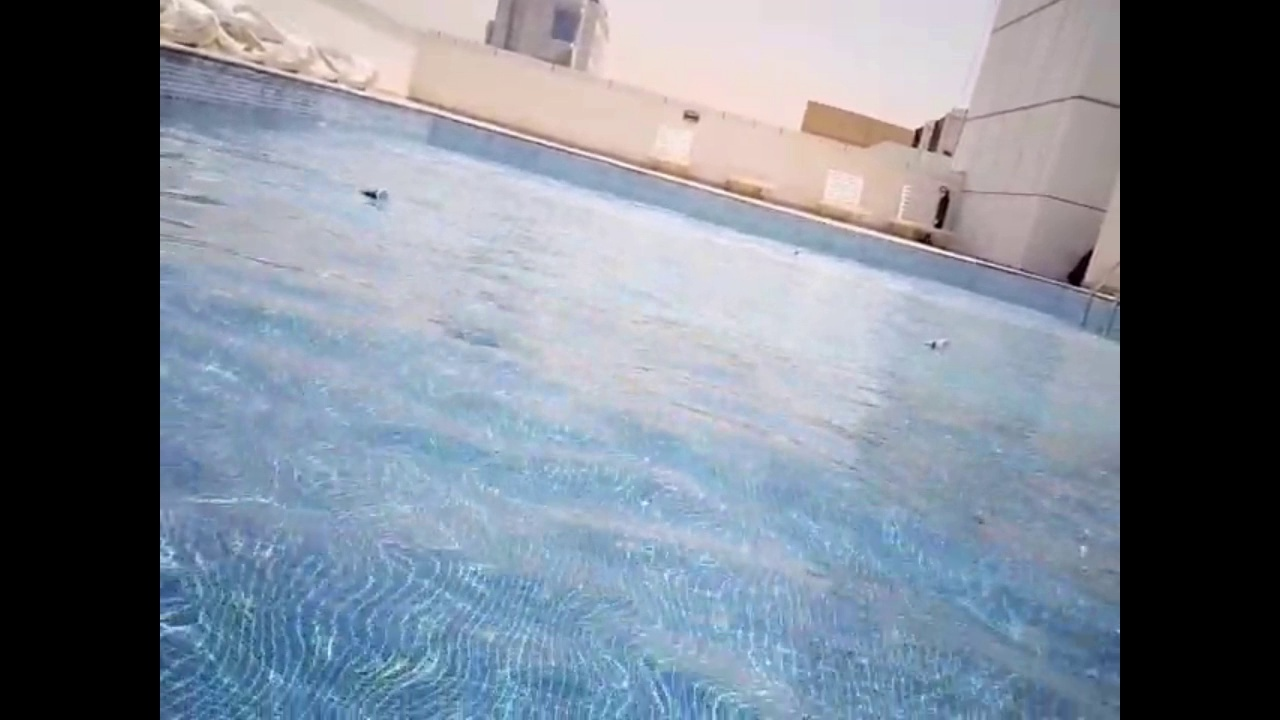debris: (354, 183, 391, 207), (918, 332, 952, 353), (789, 243, 805, 259)
